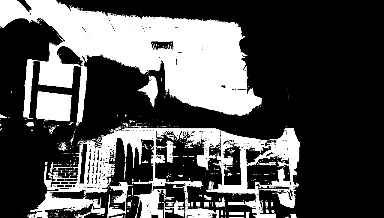H: (24, 60, 86, 125)
